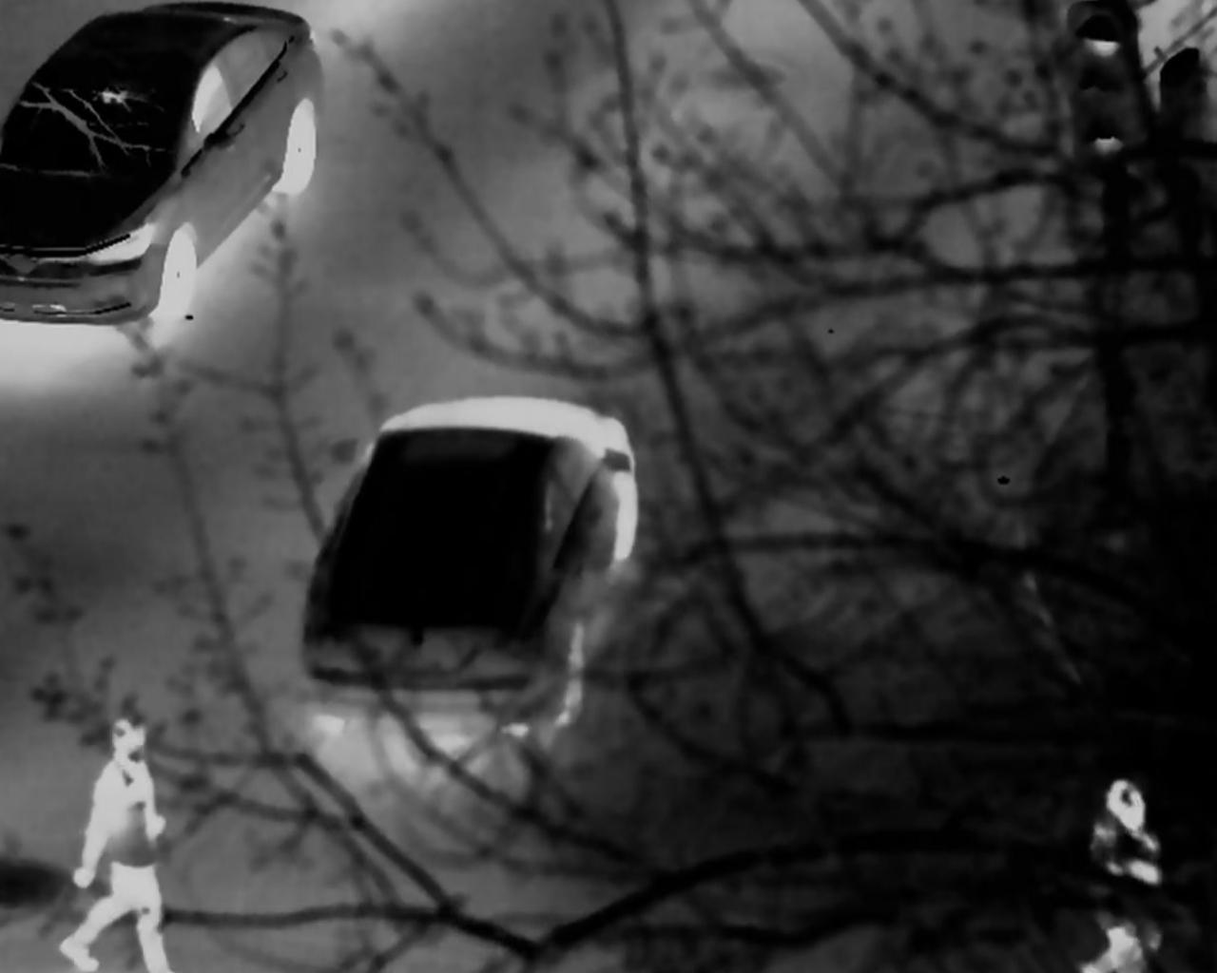person: (70, 718, 180, 973), (1090, 782, 1175, 960)
